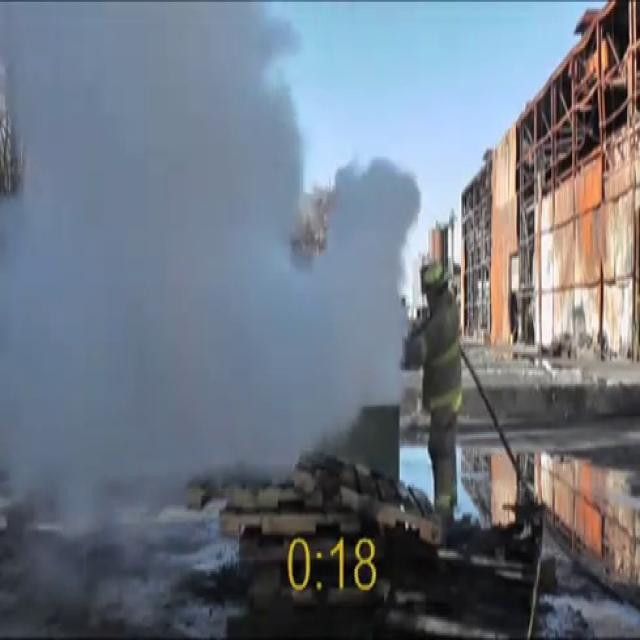Smoke: (0, 1, 421, 538)
